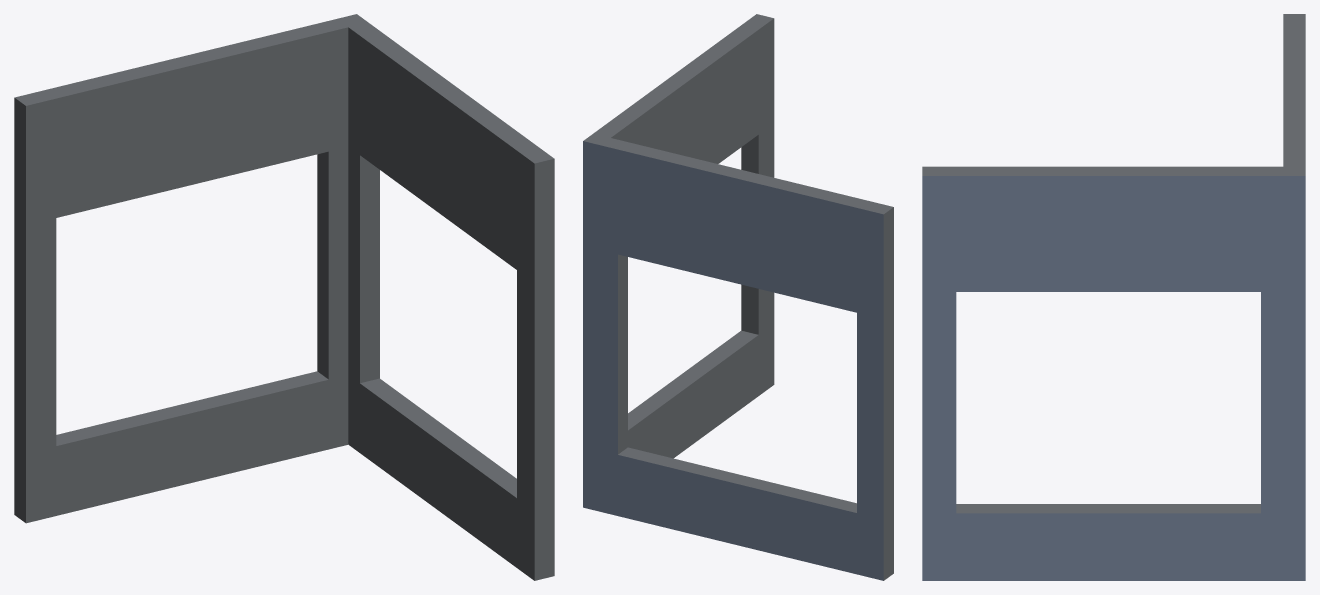
The model's file is Wall3_C4_15.fbx.
The picture shows the model from 3 angles, left to right: view 1: azimuth 30°, elevation 25°; view 2: azimuth 150°, elevation 25°; view 3: azimuth 270°, elevation 25°; orthographic projection. The views are drawn at different scales.
Visible parts, largest first — view 1: Wall3_C4_15; view 2: Wall3_C4_15; view 3: Wall3_C4_15.
Part boxes in pixels (bbox=[...]): Wall3_C4_15: bbox=[14, 14, 554, 580]; Wall3_C4_15: bbox=[583, 14, 893, 580]; Wall3_C4_15: bbox=[922, 14, 1305, 580].
Bounding box in the file's own units: 258 × 300 × 258.
